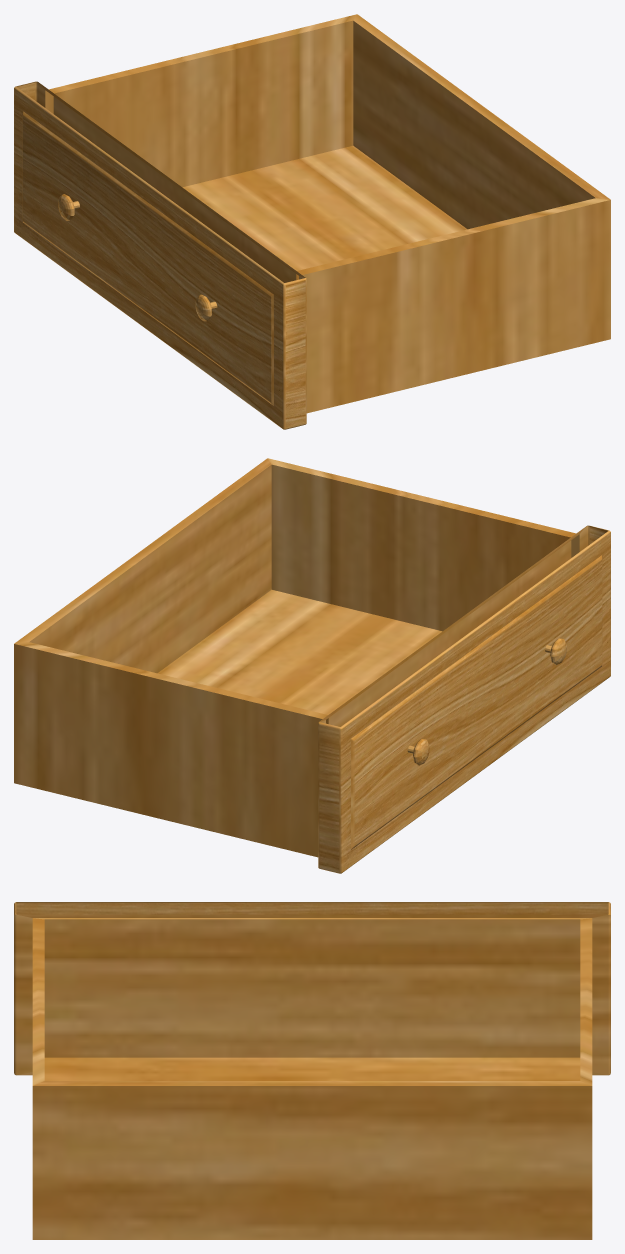
Rendered from cajon2.obj.
The picture shows the model from 3 angles, top to bottom: view 1: azimuth 30°, elevation 25°; view 2: azimuth 150°, elevation 25°; view 3: azimuth 270°, elevation 25°; orthographic projection. The views are drawn at different scales.
Visible parts, largest first — view 1: cajon2_DRAWEROBJ.005; view 2: cajon2_DRAWEROBJ.005; view 3: cajon2_DRAWEROBJ.005.
Part boxes in pixels (x1,y1,x2,y2): cajon2_DRAWEROBJ.005: (14,14,610,429); cajon2_DRAWEROBJ.005: (14,458,610,873); cajon2_DRAWEROBJ.005: (14,902,610,1239).
Bounding box in the file's own units: 14.75 × 5.84 × 19.53.
Materials: 1 (1 with a texture image).
